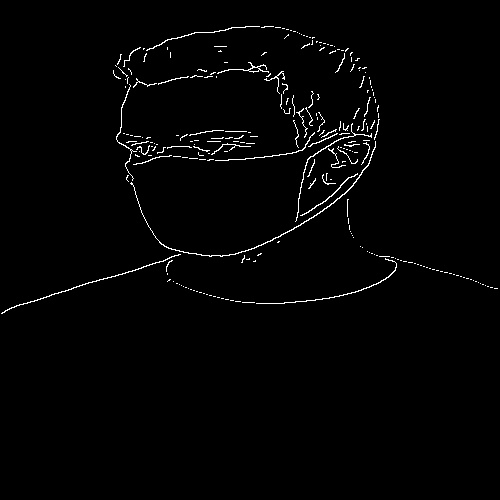mask: (128, 156, 316, 259)
